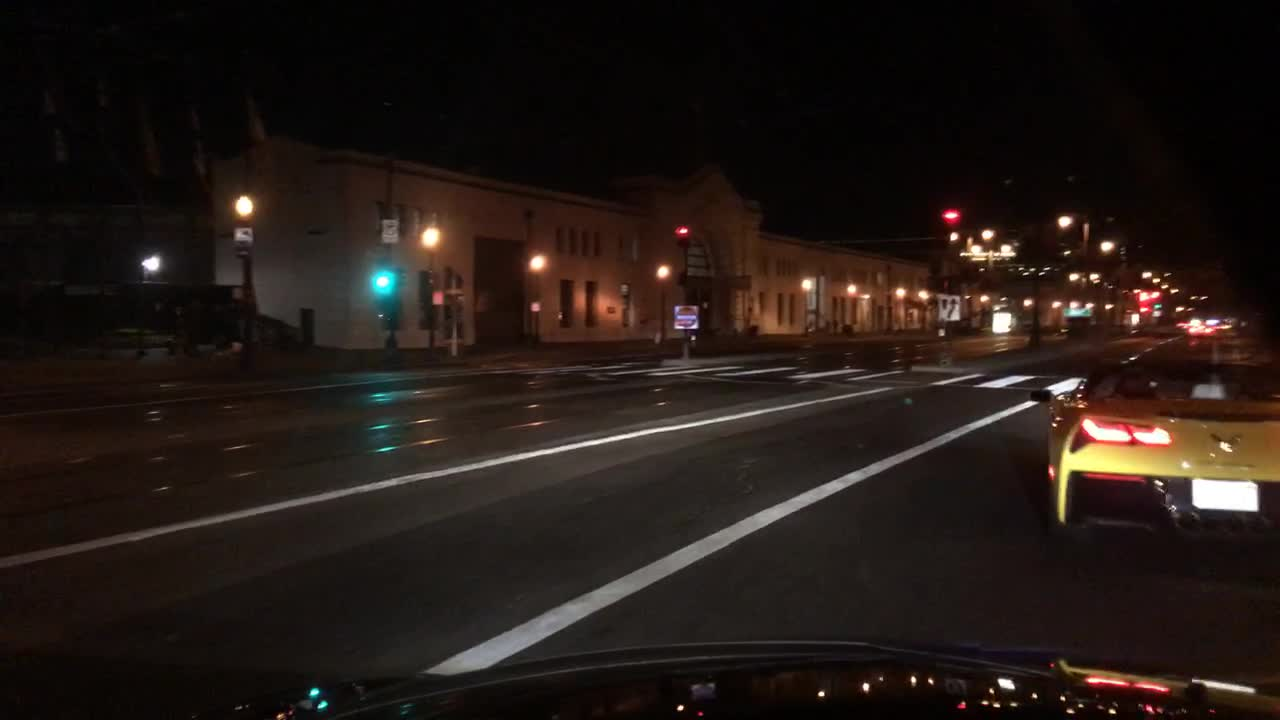car: (1025, 360, 1279, 549), (1181, 316, 1216, 338)
traffic light: (373, 271, 387, 303), (673, 221, 689, 243), (942, 204, 958, 222), (1149, 287, 1160, 299), (1139, 289, 1146, 301)
traffic sign: (938, 292, 961, 317), (671, 305, 698, 325), (235, 224, 255, 251), (382, 221, 398, 245), (1064, 306, 1091, 315)
